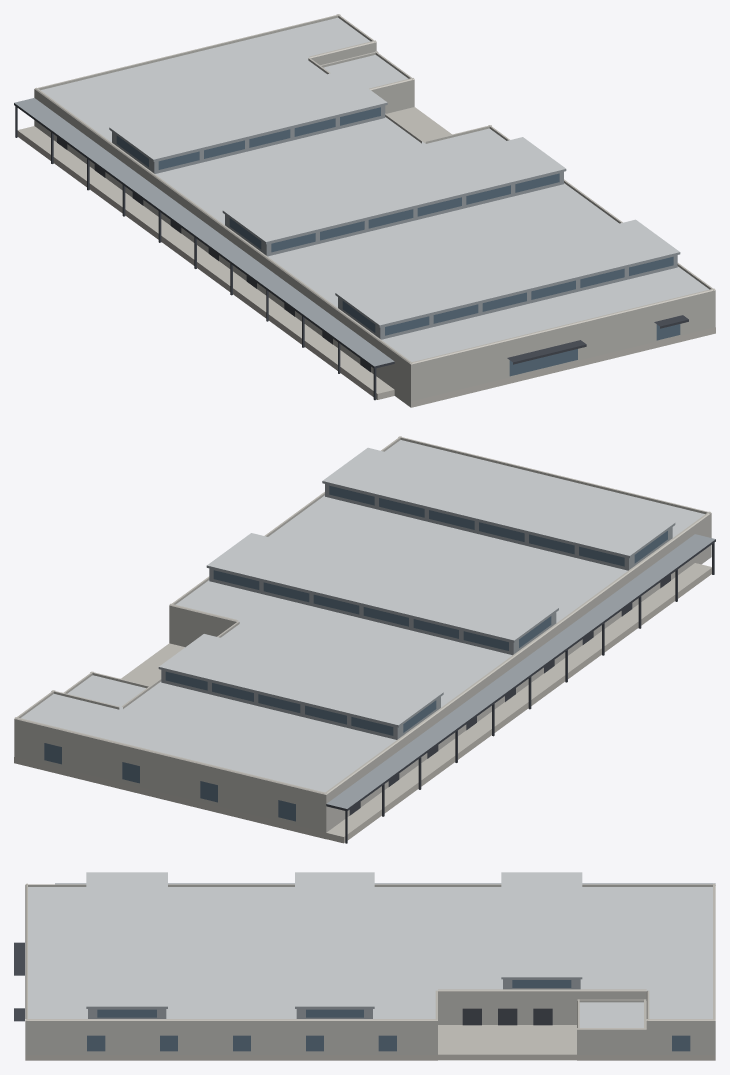
Rendered from clt-cne-1701-n-graham.glb.
The picture shows the model from 3 angles, top to bottom: view 1: azimuth 30°, elevation 25°; view 2: azimuth 150°, elevation 25°; view 3: azimuth 270°, elevation 25°; orthographic projection. The views are drawn at different scales.
Visible parts, largest first — view 1: 1701 N. Graham Street, Camp North End; view 2: 1701 N. Graham Street, Camp North End; view 3: 1701 N. Graham Street, Camp North End.
Part boxes in pixels (<box>): 1701 N. Graham Street, Camp North End: <box>14,14,715,407</box>; 1701 N. Graham Street, Camp North End: <box>14,436,715,843</box>; 1701 N. Graham Street, Camp North End: <box>14,872,715,1060</box>.
Size of the model in its own units: 60.46 by 10.2 by 123.
